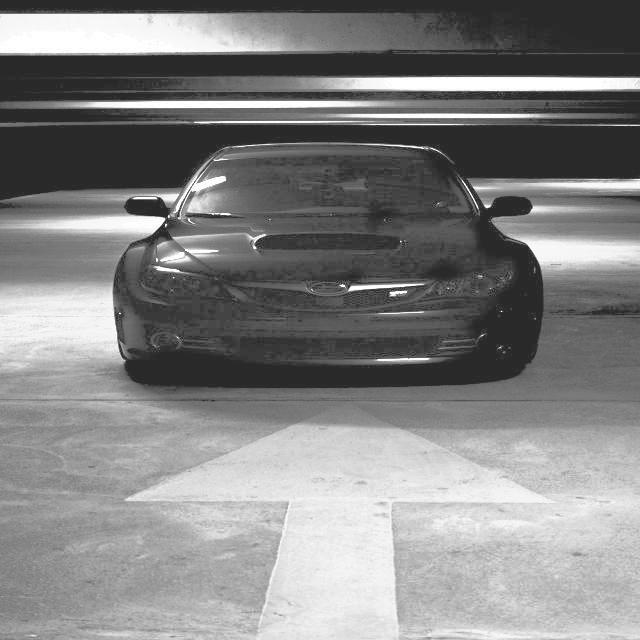Car: (88, 115, 557, 405)
